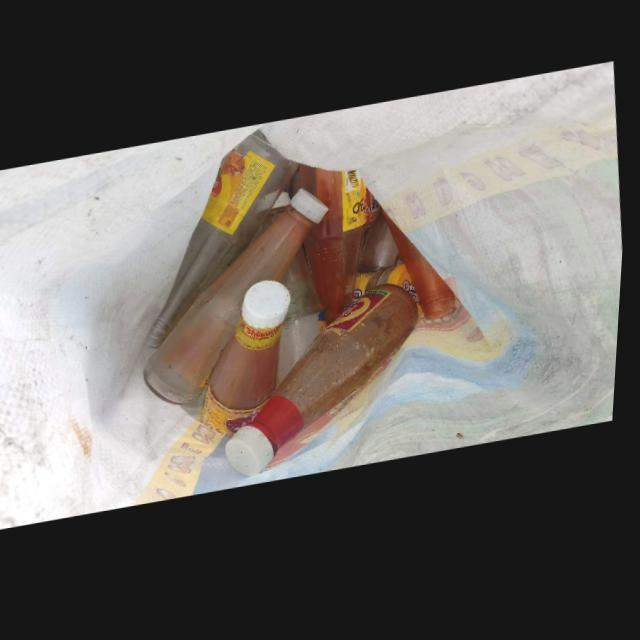glass_bottle: (148, 193, 331, 408), (230, 290, 423, 481), (151, 138, 301, 352), (203, 284, 294, 437), (301, 169, 373, 332), (385, 216, 465, 326), (284, 247, 331, 389), (357, 270, 426, 324), (362, 215, 402, 279)
